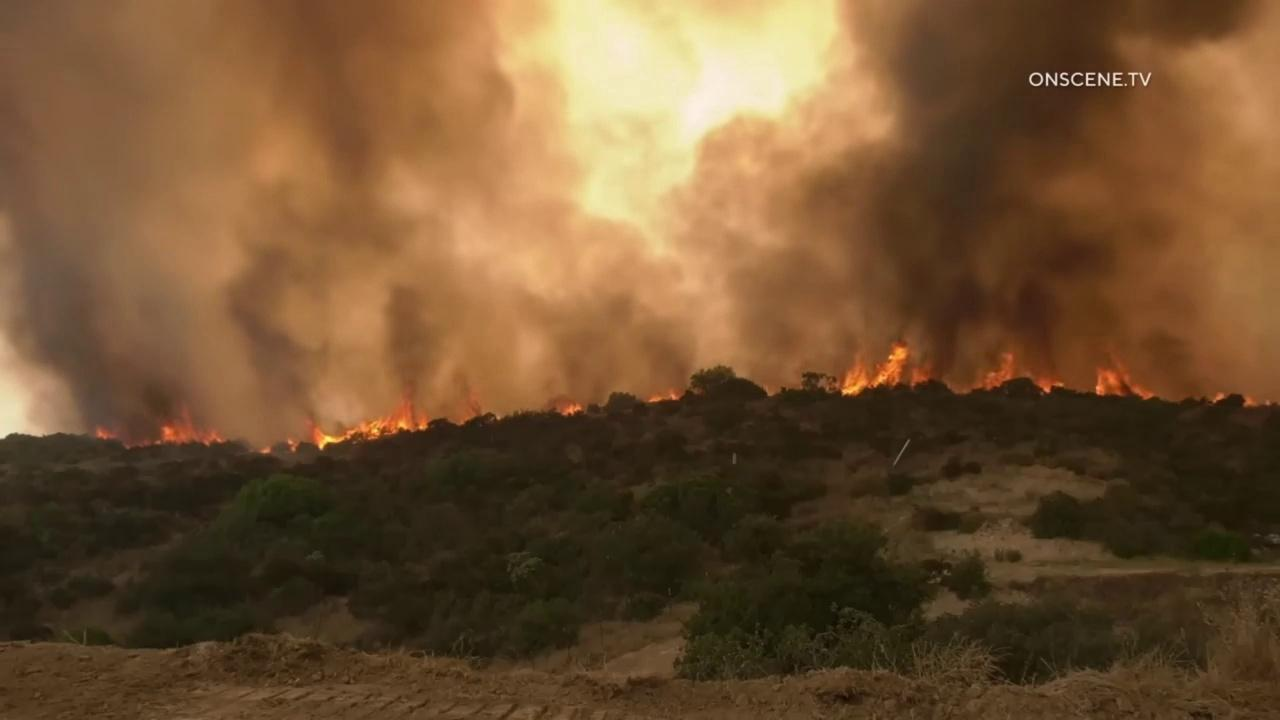fire: (305, 384, 429, 451), (94, 400, 228, 451), (840, 340, 909, 397), (1094, 350, 1154, 401), (942, 353, 1013, 395), (1029, 375, 1065, 393), (647, 386, 681, 403), (910, 365, 930, 388), (559, 402, 582, 417), (1211, 391, 1225, 404), (287, 437, 298, 453), (1241, 397, 1257, 407), (256, 446, 272, 454), (1265, 399, 1271, 406)
smoke: (0, 0, 1280, 438)
